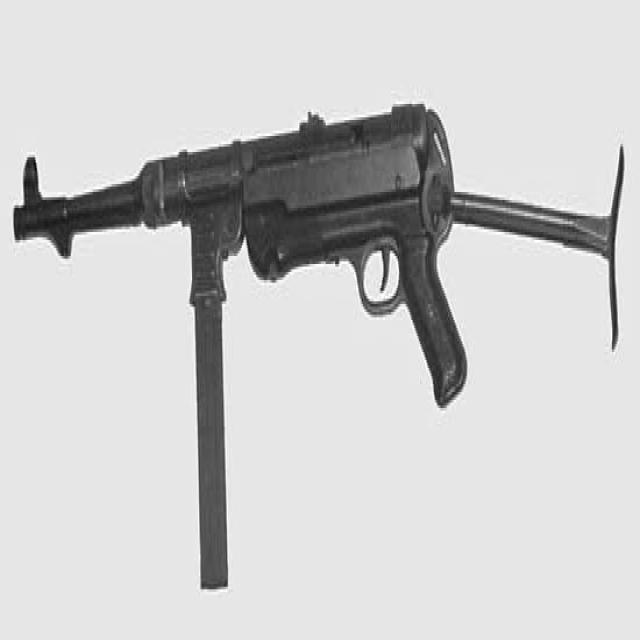Sub-machine-gun: (8, 131, 603, 624)
